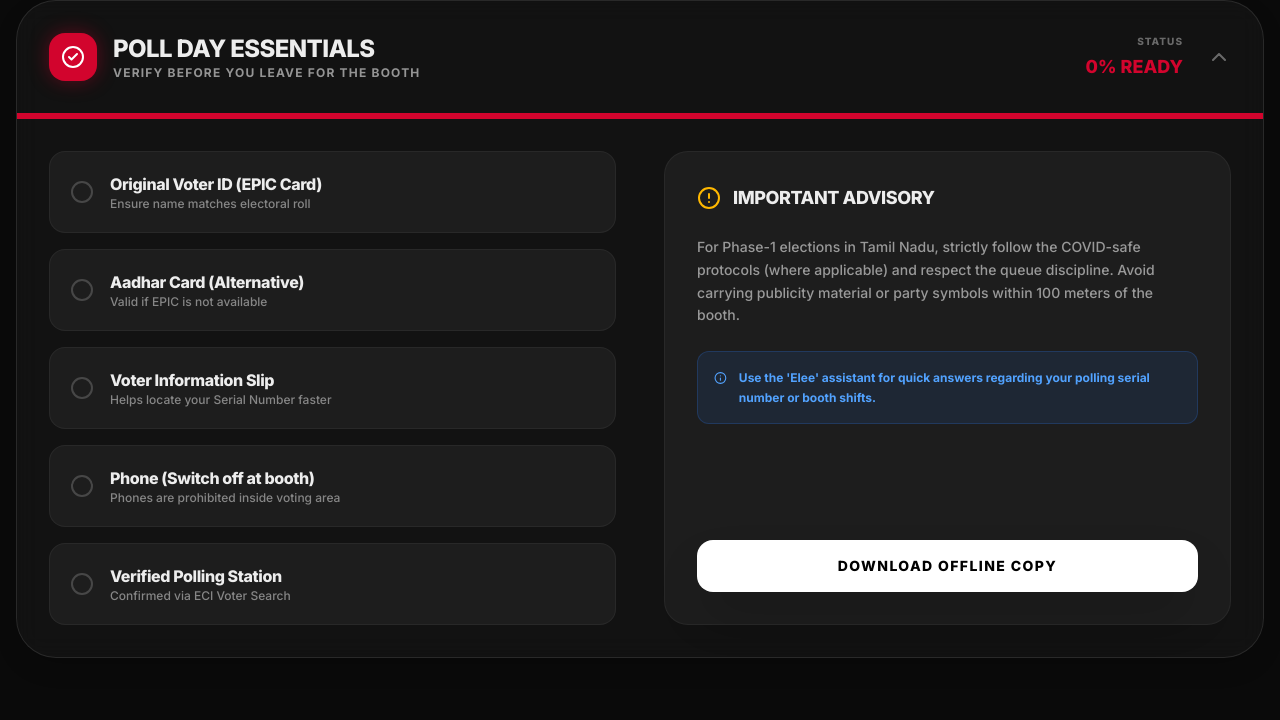
Test: VoterChecklist › should toggle a checklist item and update progress
Click the button "Original Voter ID".
click(216, 184)  # box x1=49 y1=151 x2=616 y2=233
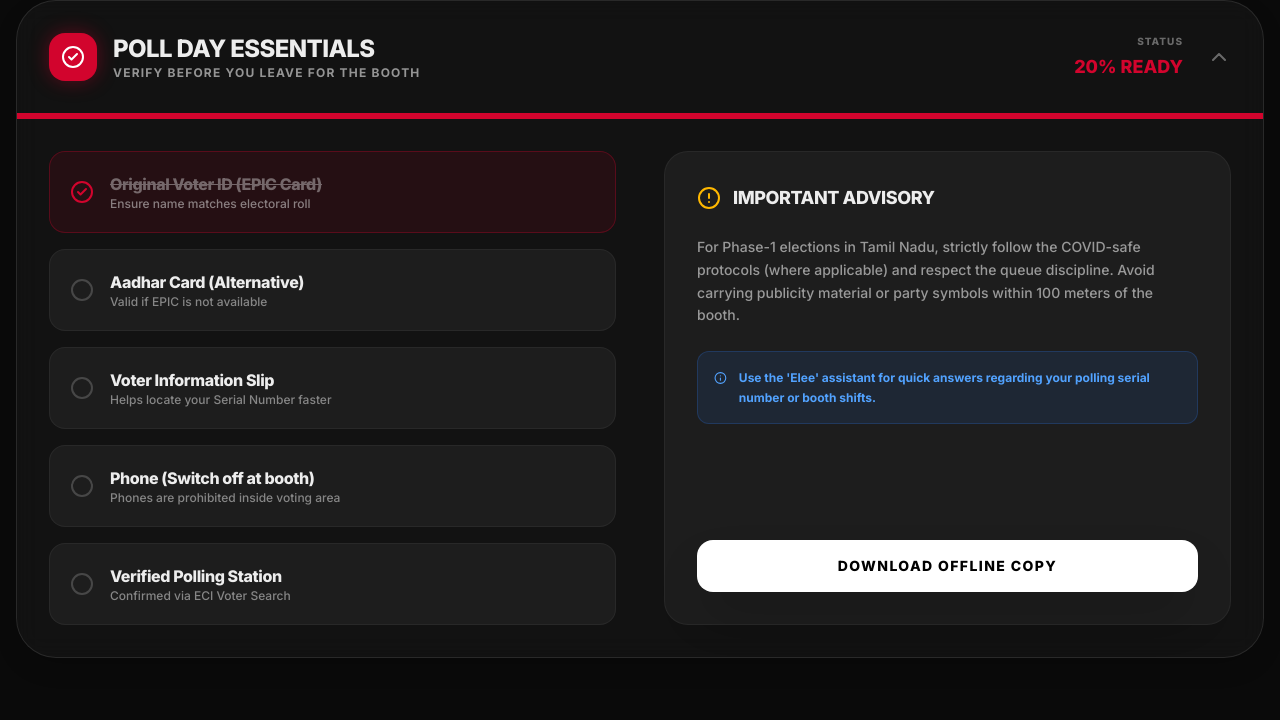
expect the text "20% READY" is shown: met, box x1=1074 y1=52 x2=1183 y2=80
